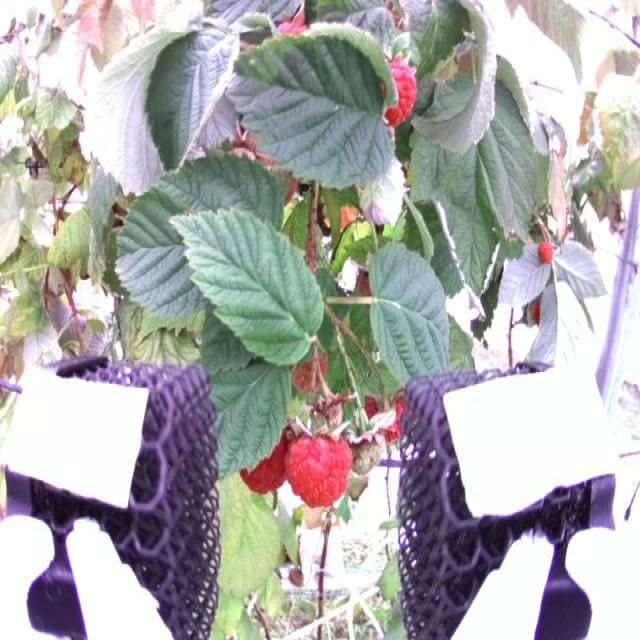Riped berries: (290, 415, 352, 512), (241, 412, 290, 497), (374, 45, 422, 124), (366, 384, 408, 444), (536, 234, 559, 268)
